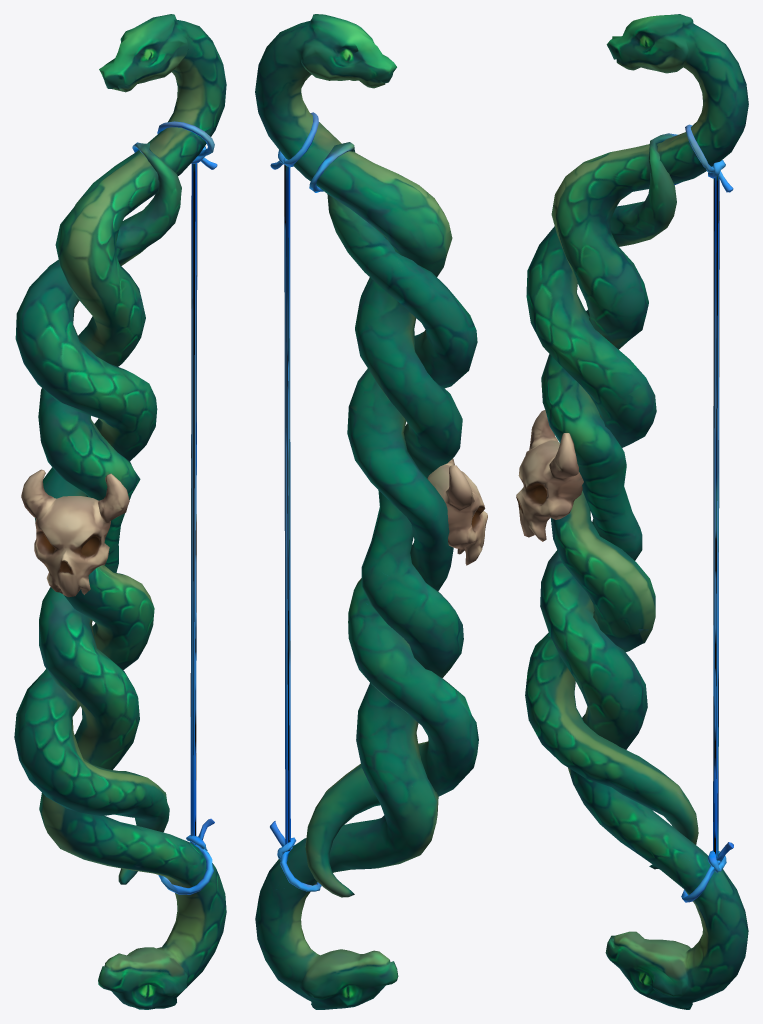
Rendered from wpn_medusa.glb.
The picture shows the model from 3 angles, left to right: view 1: azimuth 30°, elevation 25°; view 2: azimuth 150°, elevation 25°; view 3: azimuth 330°, elevation 25°; orthographic projection.
Visible parts, largest first — view 1: geometry_0; view 2: geometry_0; view 3: geometry_0.
Boxes of the visible parts, bbox=[...] form: geometry_0: bbox=[14, 14, 226, 1009]; geometry_0: bbox=[255, 14, 487, 1009]; geometry_0: bbox=[516, 14, 748, 1009].
Size of the model in its own units: 0.2114 by 0.9507 by 0.1006.
1 material, 1 textured.
